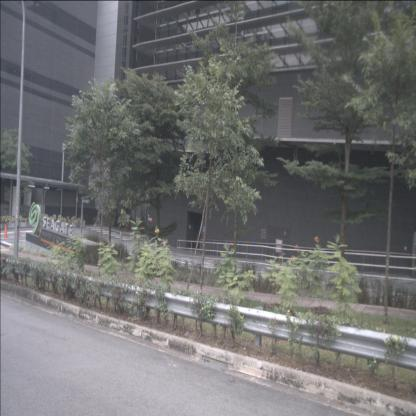movable_object-trafficcone: (3, 223, 9, 239), (16, 222, 21, 238)
